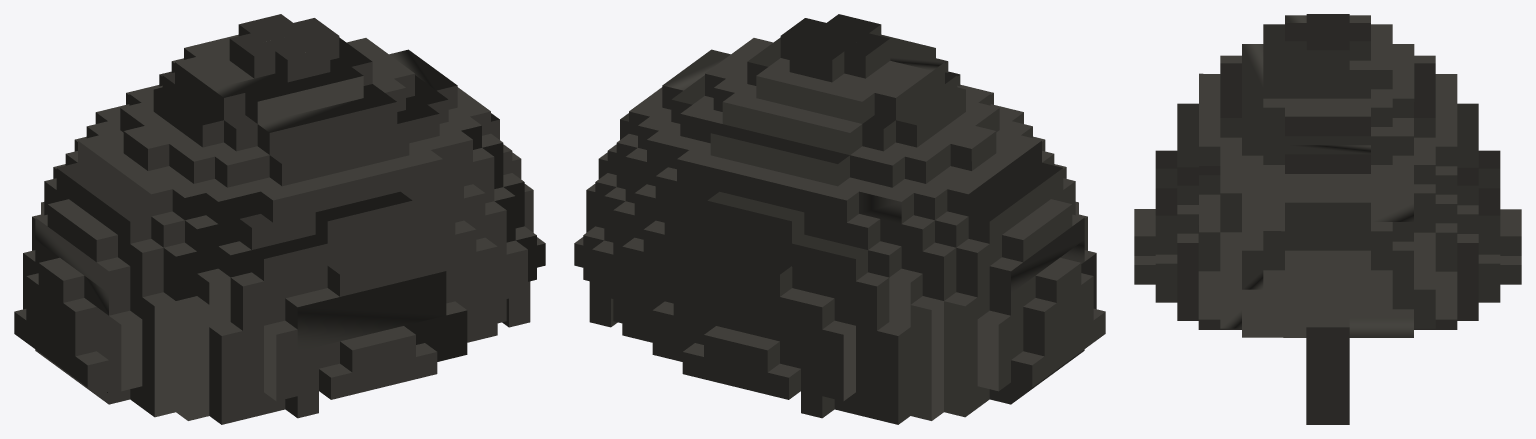
The model's file is Helm_Nasal_F.obj.
The picture shows the model from 3 angles, left to right: view 1: azimuth 30°, elevation 25°; view 2: azimuth 150°, elevation 25°; view 3: azimuth 270°, elevation 25°; orthographic projection. The views are drawn at different scales.
Parts seen in each view (by area): view 1: Helm_Nasal_F; view 2: Helm_Nasal_F; view 3: Helm_Nasal_F.
Part boxes in pixels (x1,y1,x2,y2): Helm_Nasal_F: [14, 14, 545, 424]; Helm_Nasal_F: [574, 14, 1105, 424]; Helm_Nasal_F: [1134, 14, 1521, 424].
Bounding box in the file's own units: 22 × 15 × 18.
